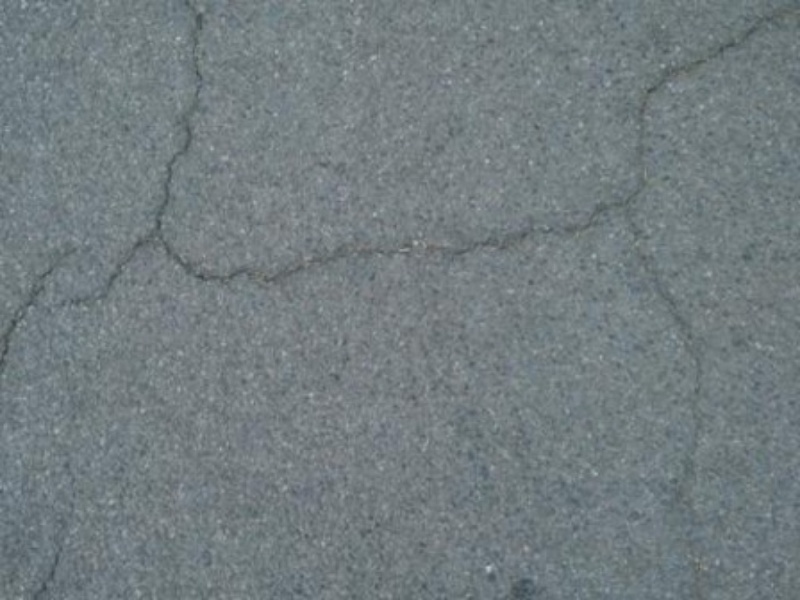crack: (608, 10, 734, 585), (142, 196, 633, 295), (613, 23, 790, 204), (3, 223, 147, 348), (141, 6, 229, 206)
